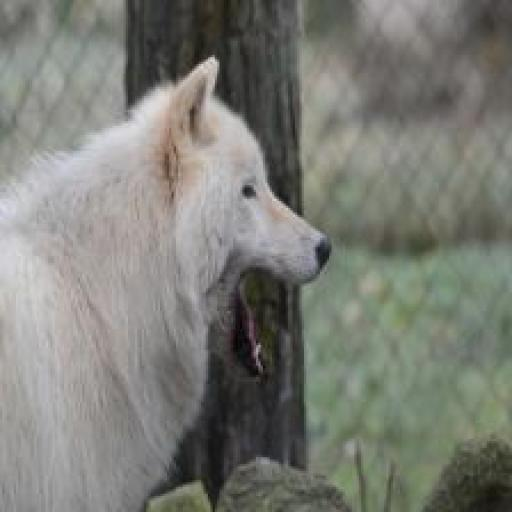wolf: (2, 53, 334, 506)
